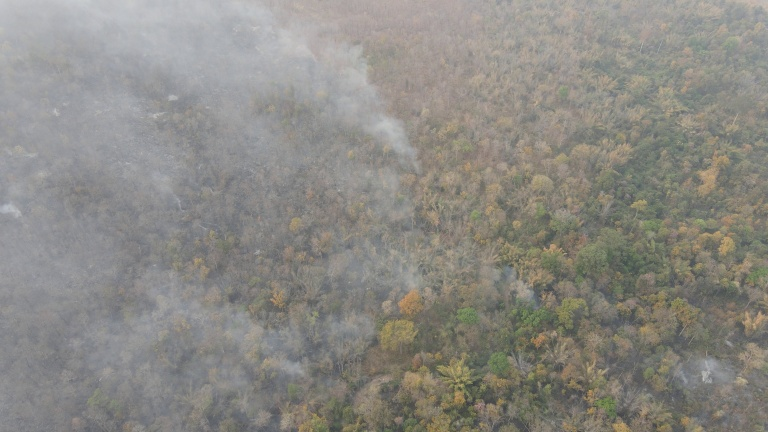smoke: (1, 1, 444, 431), (671, 342, 740, 396), (481, 260, 547, 314)
